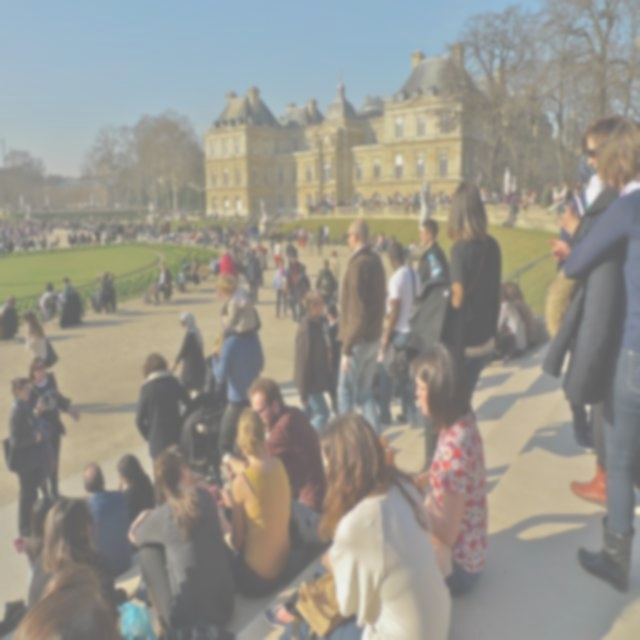pessoa: (260, 340, 490, 632), (544, 117, 639, 596), (260, 410, 455, 640), (546, 112, 628, 508), (562, 132, 638, 457), (127, 450, 235, 638), (10, 497, 130, 640), (442, 179, 503, 423), (215, 406, 292, 594), (225, 374, 326, 514), (336, 218, 386, 442), (210, 303, 266, 462), (26, 356, 82, 503), (378, 241, 421, 426), (134, 351, 193, 474), (168, 444, 232, 540), (83, 460, 132, 580), (292, 288, 330, 438), (8, 376, 42, 538), (204, 339, 228, 491), (307, 191, 453, 215), (212, 272, 258, 343), (170, 312, 207, 398), (116, 453, 157, 530), (414, 217, 451, 290), (504, 281, 538, 350), (496, 283, 526, 359), (325, 302, 344, 416), (22, 308, 59, 362), (480, 182, 556, 206), (3, 202, 152, 213), (285, 248, 305, 324), (314, 258, 336, 320), (88, 270, 116, 315), (98, 213, 138, 244), (294, 264, 312, 328), (244, 247, 262, 305), (272, 258, 288, 319), (542, 180, 569, 216), (144, 262, 167, 304), (32, 282, 58, 318), (49, 215, 99, 232), (152, 266, 171, 307), (554, 181, 573, 221), (157, 204, 199, 222), (269, 210, 303, 231), (372, 348, 384, 406), (227, 221, 250, 251), (170, 258, 192, 288), (328, 250, 340, 304), (198, 211, 262, 221), (230, 239, 243, 288), (506, 189, 520, 229), (198, 254, 220, 279), (394, 383, 416, 408), (220, 250, 238, 279), (0, 294, 16, 326), (254, 244, 264, 288), (60, 277, 76, 303), (196, 228, 218, 246), (274, 238, 283, 272), (370, 231, 384, 252), (285, 238, 295, 266), (306, 228, 315, 256), (267, 228, 276, 256), (140, 219, 158, 233), (379, 234, 389, 256), (298, 224, 306, 251), (504, 166, 517, 182), (574, 180, 586, 197), (316, 228, 323, 256), (254, 240, 266, 256), (68, 232, 80, 248), (403, 239, 415, 255), (292, 227, 304, 243), (419, 215, 430, 232), (260, 198, 268, 220), (176, 230, 188, 244), (282, 229, 294, 243), (337, 230, 346, 248), (186, 230, 196, 246), (386, 234, 396, 250), (162, 230, 174, 243), (93, 229, 102, 246), (289, 226, 298, 243), (166, 230, 178, 242), (248, 222, 254, 246), (213, 232, 223, 246), (50, 236, 60, 250), (217, 237, 230, 247), (152, 228, 160, 244), (86, 230, 94, 246), (243, 242, 250, 260), (160, 222, 167, 240), (71, 230, 78, 248), (177, 223, 186, 237), (138, 221, 144, 241), (324, 222, 329, 246), (420, 180, 430, 192), (222, 223, 229, 240), (276, 227, 282, 245), (200, 222, 218, 228), (254, 222, 258, 246), (192, 259, 198, 274), (184, 220, 190, 234), (138, 213, 151, 219), (193, 221, 198, 236), (258, 230, 264, 242), (81, 232, 86, 246), (78, 232, 82, 247), (322, 227, 326, 242), (305, 230, 310, 242), (188, 220, 192, 234), (218, 223, 223, 234), (320, 225, 324, 238), (274, 227, 278, 240), (168, 221, 171, 235), (148, 232, 151, 242), (220, 252, 224, 258), (414, 241, 418, 247), (267, 232, 270, 240), (49, 232, 53, 236), (90, 232, 93, 236), (164, 220, 167, 223), (76, 232, 78, 236), (226, 222, 227, 226), (80, 232, 81, 234)
